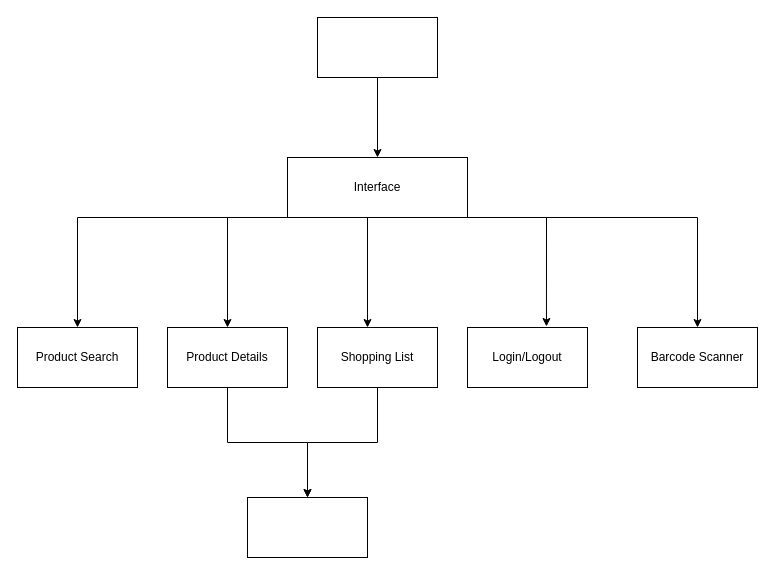
Image size: 775x575. Some labels were removed from this diagram. Here are the shapes that lost their labels. From the top down, the centre of each, then its label:
(x=377, y=47): App
(x=307, y=527): Visualisation
